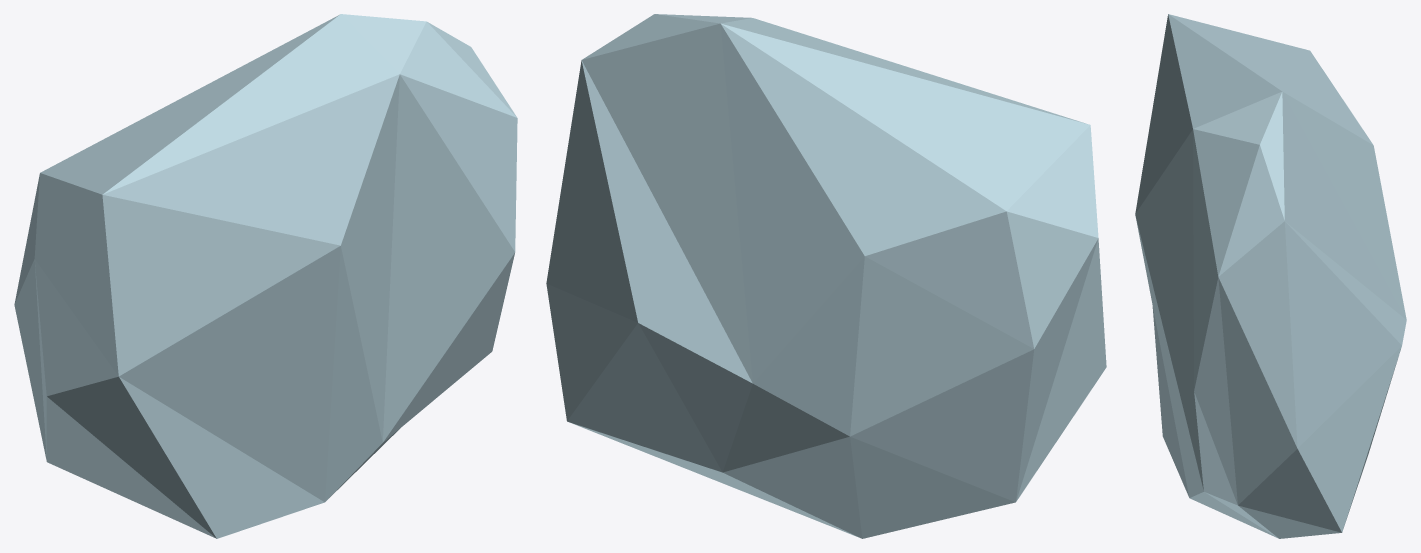
The model's file is LowPoly - Rock 05.fbx.
3 renders of one model, left to right at view 1: azimuth 30°, elevation 25°; view 2: azimuth 150°, elevation 25°; view 3: azimuth 270°, elevation 25°, orthographic. The views are drawn at different scales.
Visible parts, largest first — view 1: LowPoly - Rock 05; view 2: LowPoly - Rock 05; view 3: LowPoly - Rock 05.
Boxes of the visible parts, x1=… form: LowPoly - Rock 05: x1=14, y1=14, x2=517, y2=538; LowPoly - Rock 05: x1=546, y1=14, x2=1106, y2=538; LowPoly - Rock 05: x1=1135, y1=14, x2=1406, y2=538.
Size of the model in its own units: 106 by 97.16 by 50.73.
